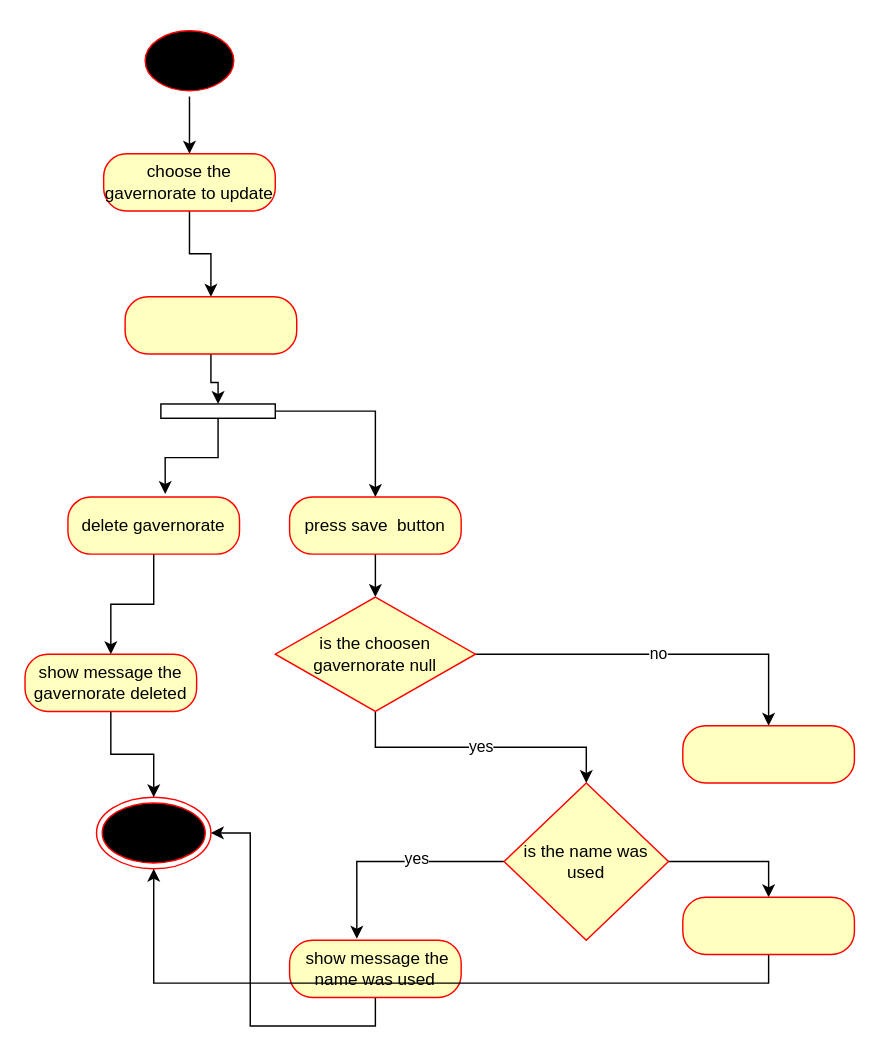
Image size: 879x1062. Some labels were removed from this diagram. The box of each missing label's shape, as (x1, y1, x2, y2) in pixels:
enter the name: (124, 295, 297, 354)
save the gavernorate: (681, 896, 854, 955)
show message the gavernorate update: (681, 724, 854, 783)
